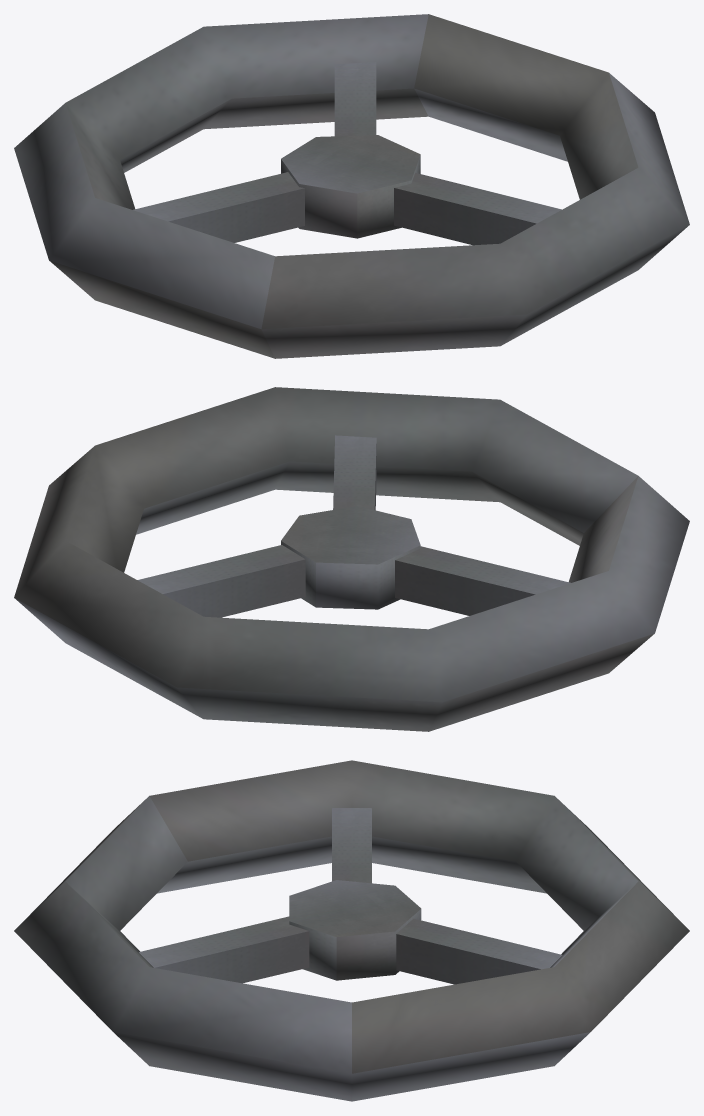
Rendered from Valve_01.fbx.
3 renders of one model, top to bottom at view 1: azimuth 30°, elevation 25°; view 2: azimuth 150°, elevation 25°; view 3: azimuth 270°, elevation 25°, orthographic. The views are drawn at different scales.
Visible parts, largest first — view 1: Valve_01; view 2: Valve_01; view 3: Valve_01.
Boxes of the visible parts, x1,y1,x2,y2 form: Valve_01: [14, 14, 689, 358]; Valve_01: [14, 387, 689, 731]; Valve_01: [14, 760, 689, 1101].
Bounding box in the file's own units: 37.78 × 6.11 × 37.78.
